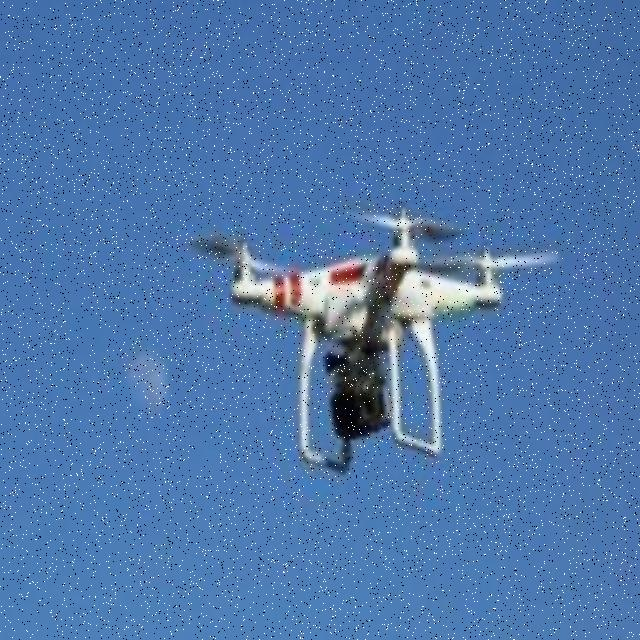UAV: (226, 204, 504, 478)
